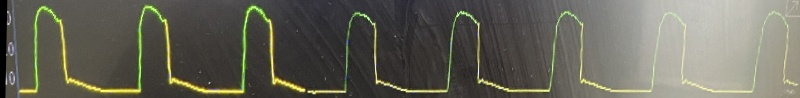normal_pressure: (20, 0, 800, 98)
